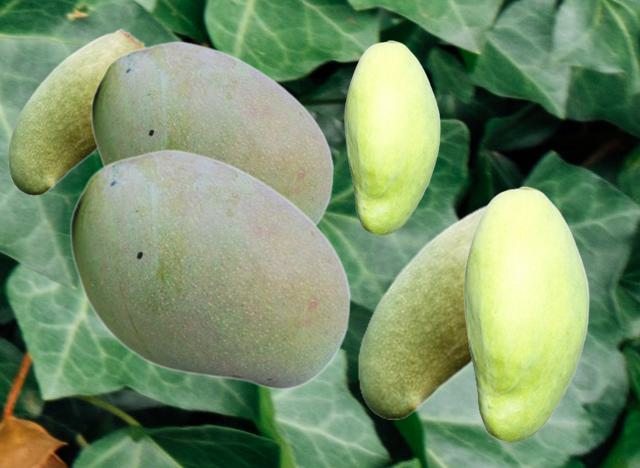green_mango: (69, 148, 350, 389), (90, 40, 333, 224), (463, 186, 588, 441), (357, 201, 488, 418), (7, 28, 147, 194), (344, 40, 439, 234)
